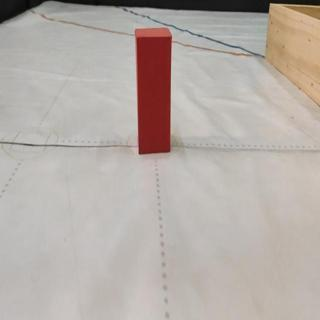redbox: (134, 27, 173, 155)
